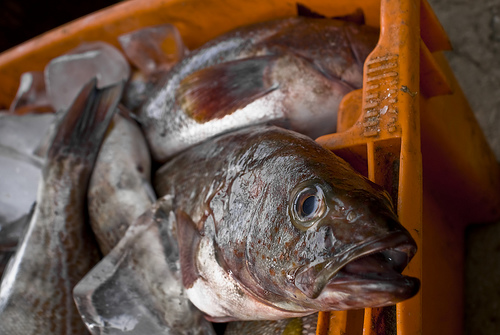fish: (149, 127, 427, 318), (135, 15, 381, 161), (2, 75, 127, 328)
